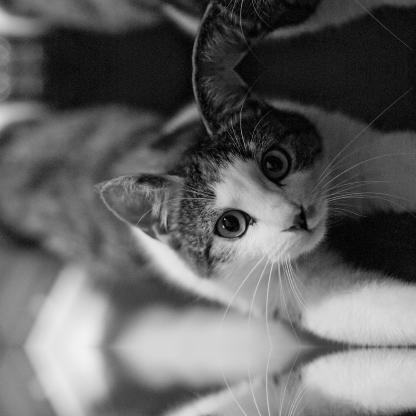Cat: (0, 68, 413, 345), (0, 0, 413, 69), (0, 348, 413, 415)
